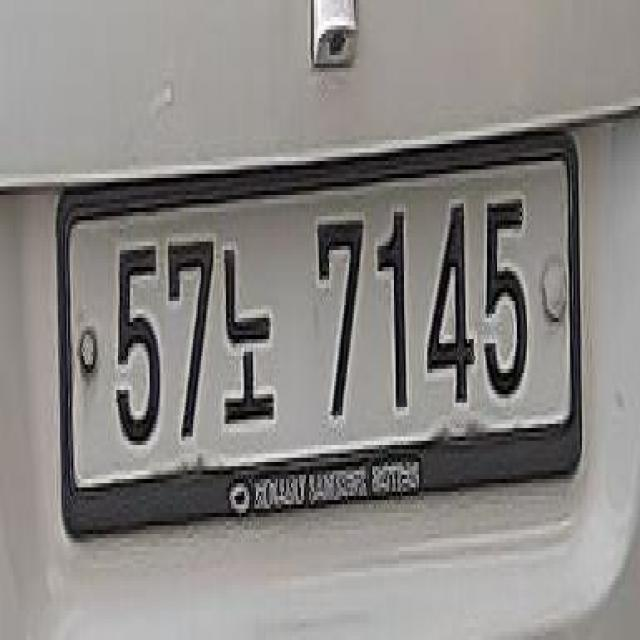1: (372, 197, 414, 429)
4: (424, 190, 476, 414)
5: (109, 225, 161, 450), (482, 191, 528, 402)
7: (164, 224, 217, 444), (314, 206, 364, 420)
license_plate: (48, 115, 589, 575)
no: (222, 224, 280, 438)
